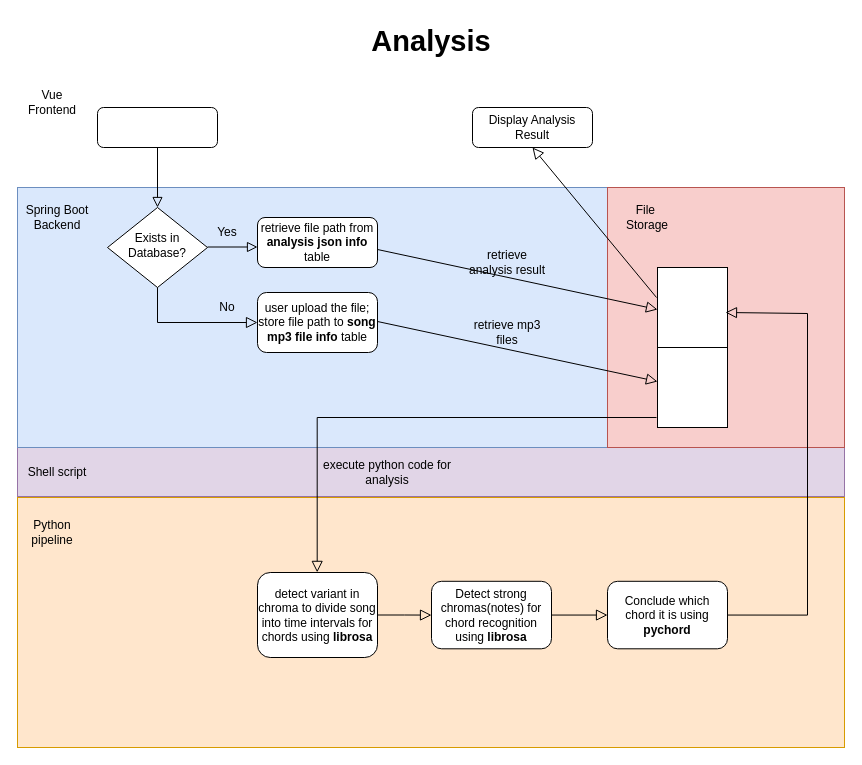
This 862x765 diagram has some shape labels left out. The shapes that lost their labels are listed below. From the top down, each one's box as (x1, y1, x2, y2) in pixels, then its label:
(96, 106, 218, 148): Analysis Query Request
(656, 266, 728, 348): analysis json files
(656, 346, 728, 428): song mp3 files
